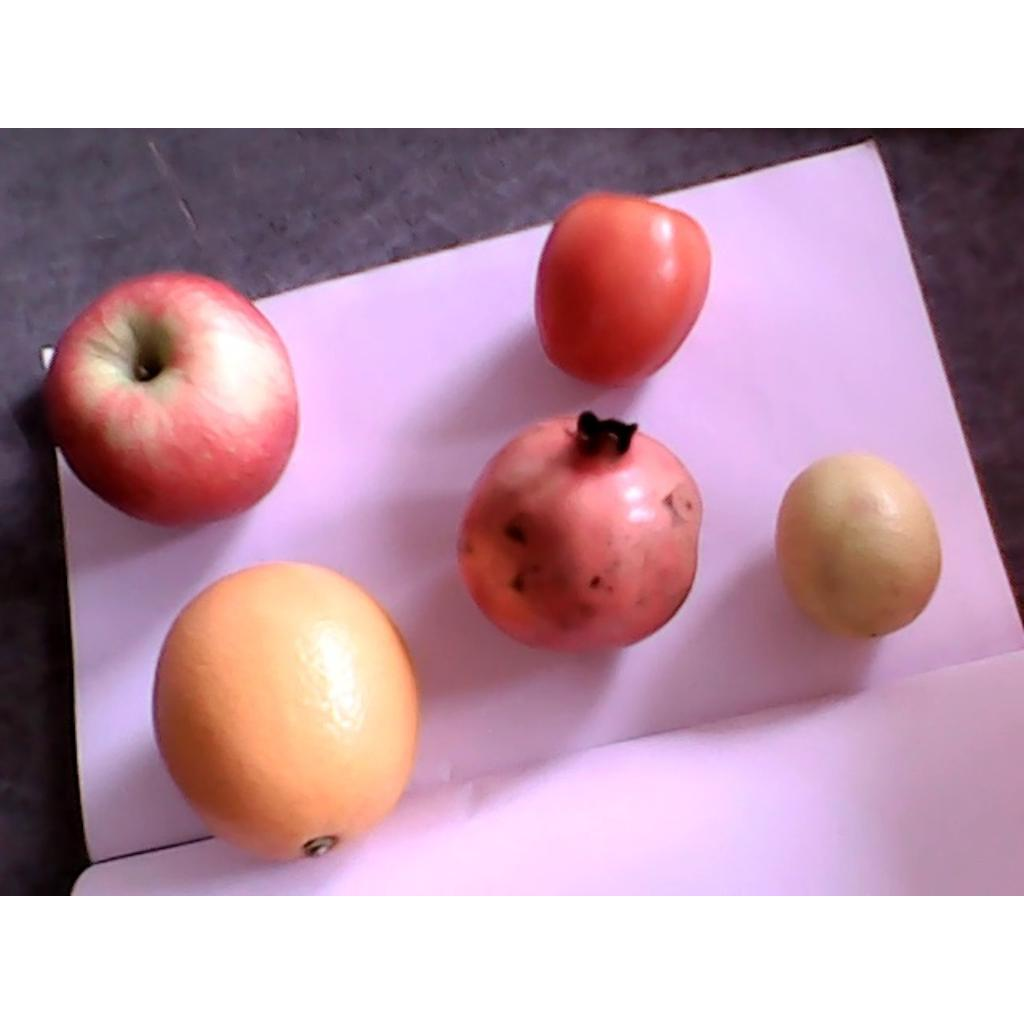apple: (39, 270, 299, 526)
lemon: (772, 452, 941, 640)
orange: (151, 563, 419, 861)
pomegranate: (454, 409, 701, 647)
tomato: (531, 192, 712, 385)
